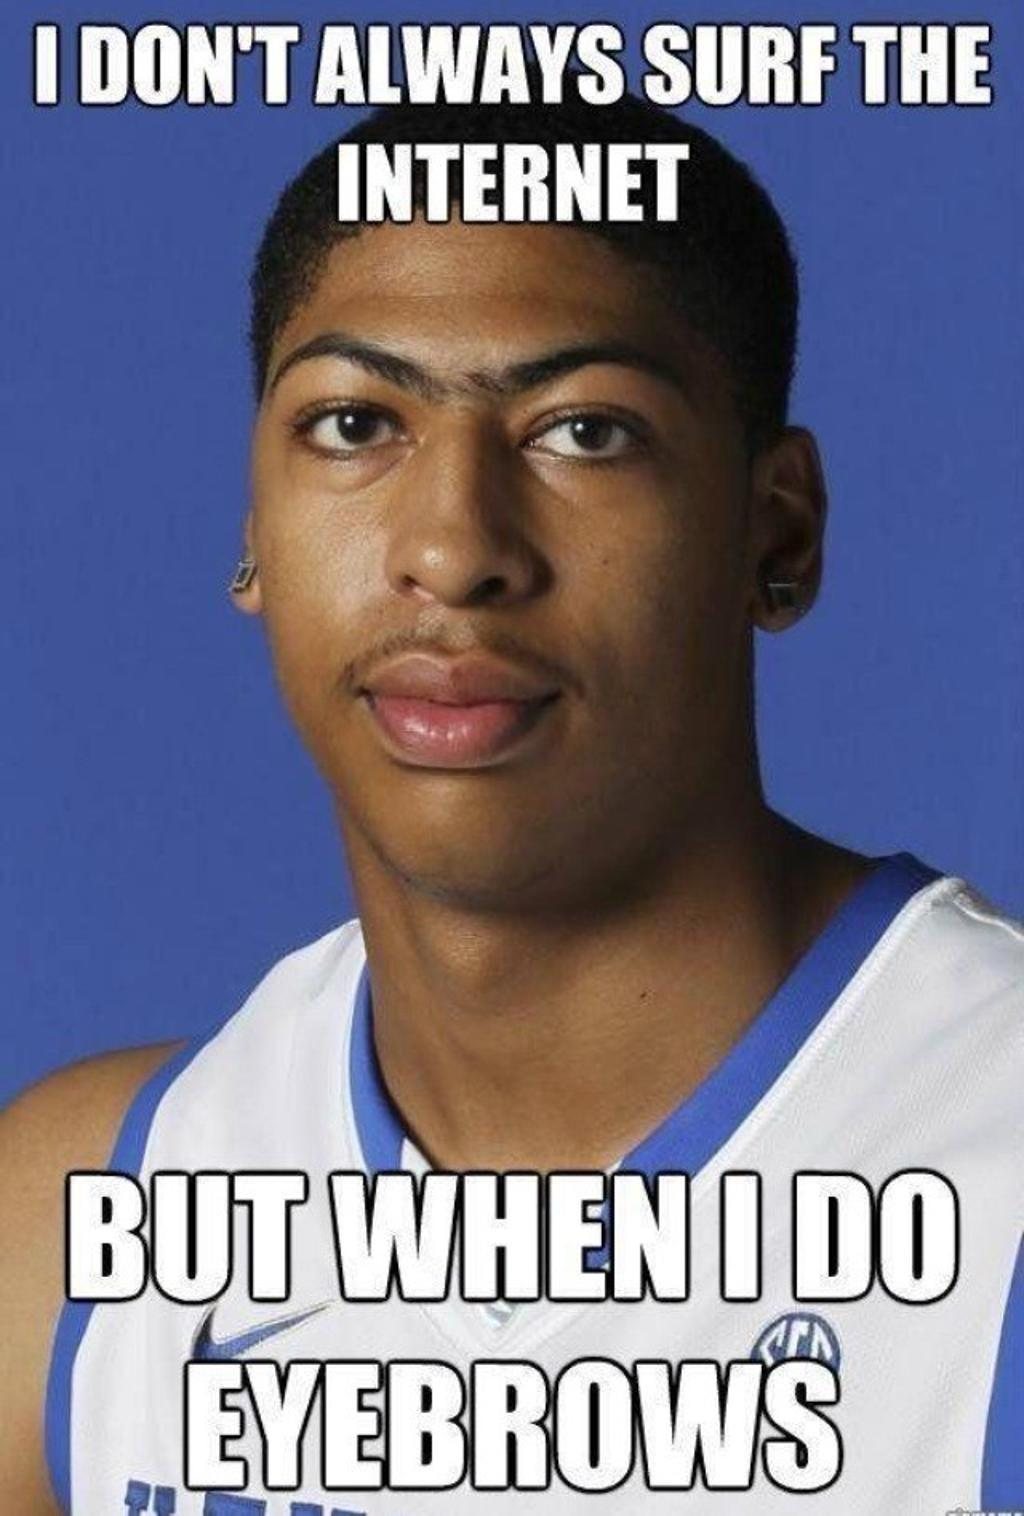face: (260, 192, 739, 890)
